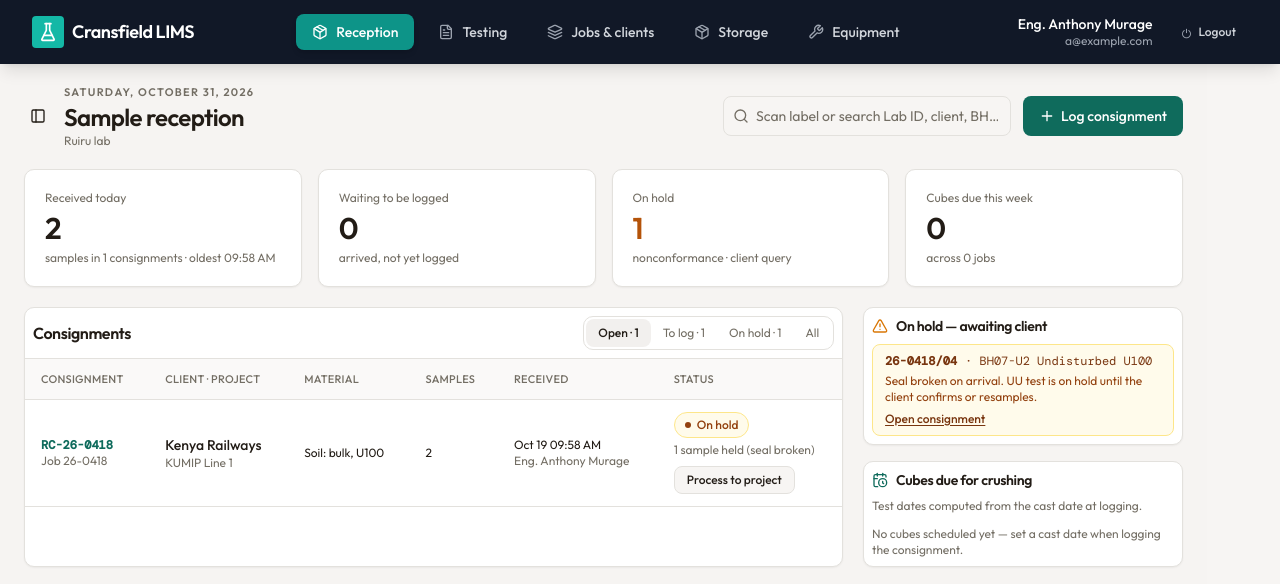
it: Reception dashboard › filters the table down to consignments that are to log
Expected: the text "RC-26-0418" is shown, [41,436,113,452]
Expected: the text "RC-26-0416" is not shown
Click the button "To log · 1".
click(684, 332)  # box [651,318,717,346]
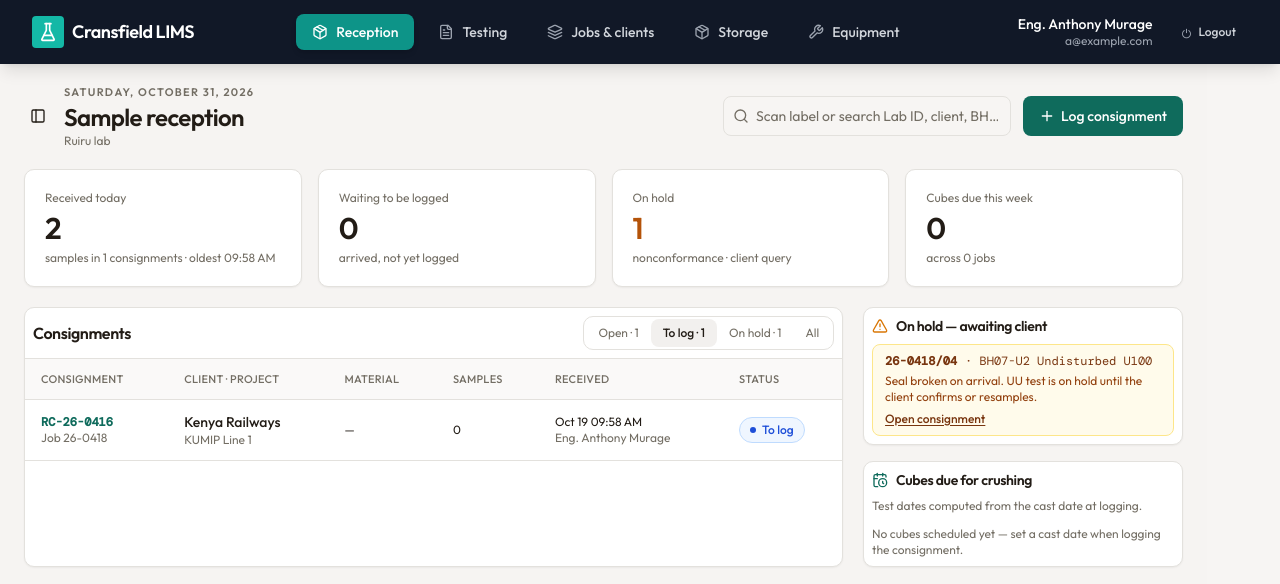
Result: the text "RC-26-0416" is shown at [41,414,113,430]
Result: the text "RC-26-0418" is gone
